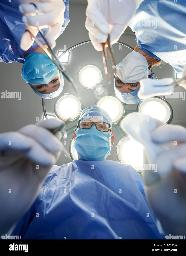scalpel: (51, 117, 70, 135)
